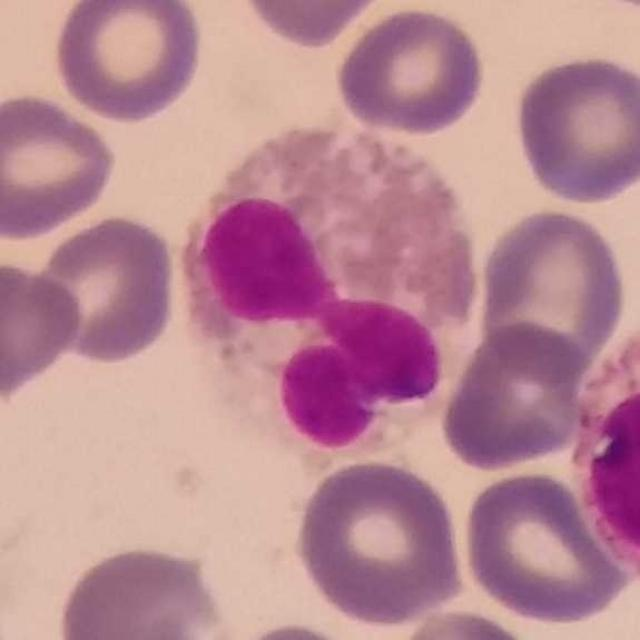eosino: (178, 119, 480, 468)
